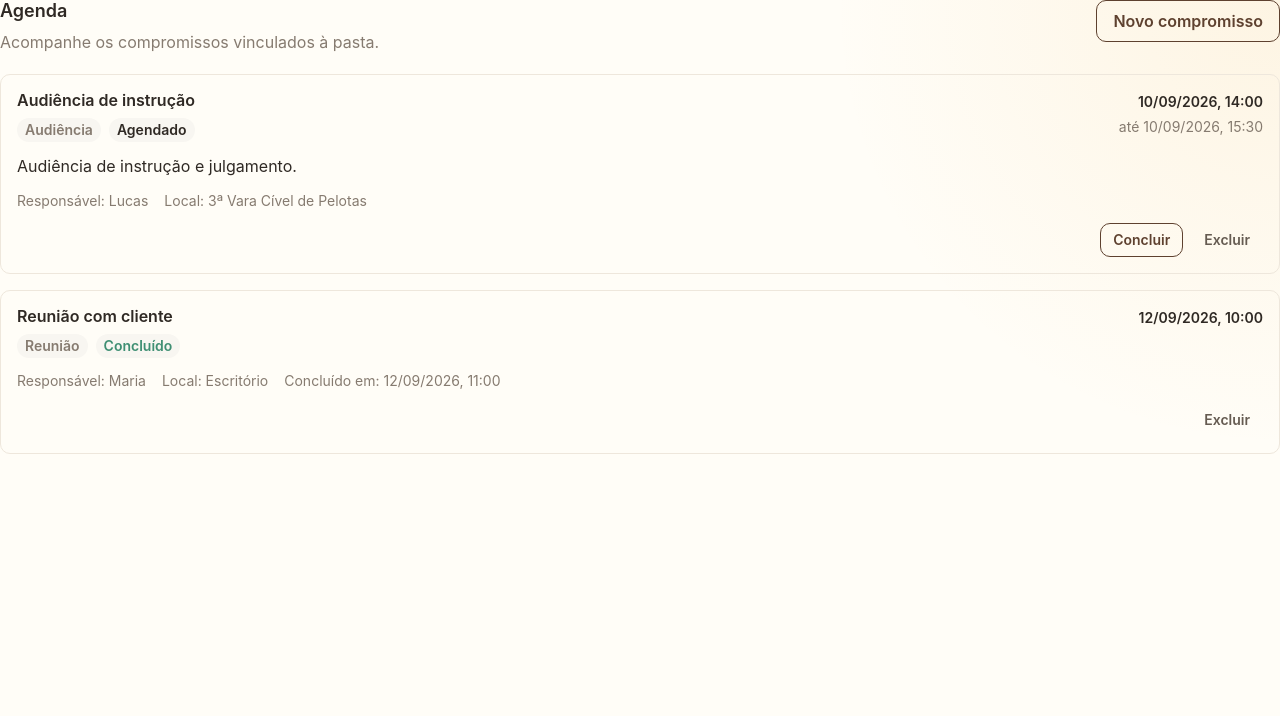
Test: FolderEvents › abre formulário para criar compromisso
Click the button "Novo compromisso": (1188, 21) x1=1096 y1=0 x2=1279 y2=42
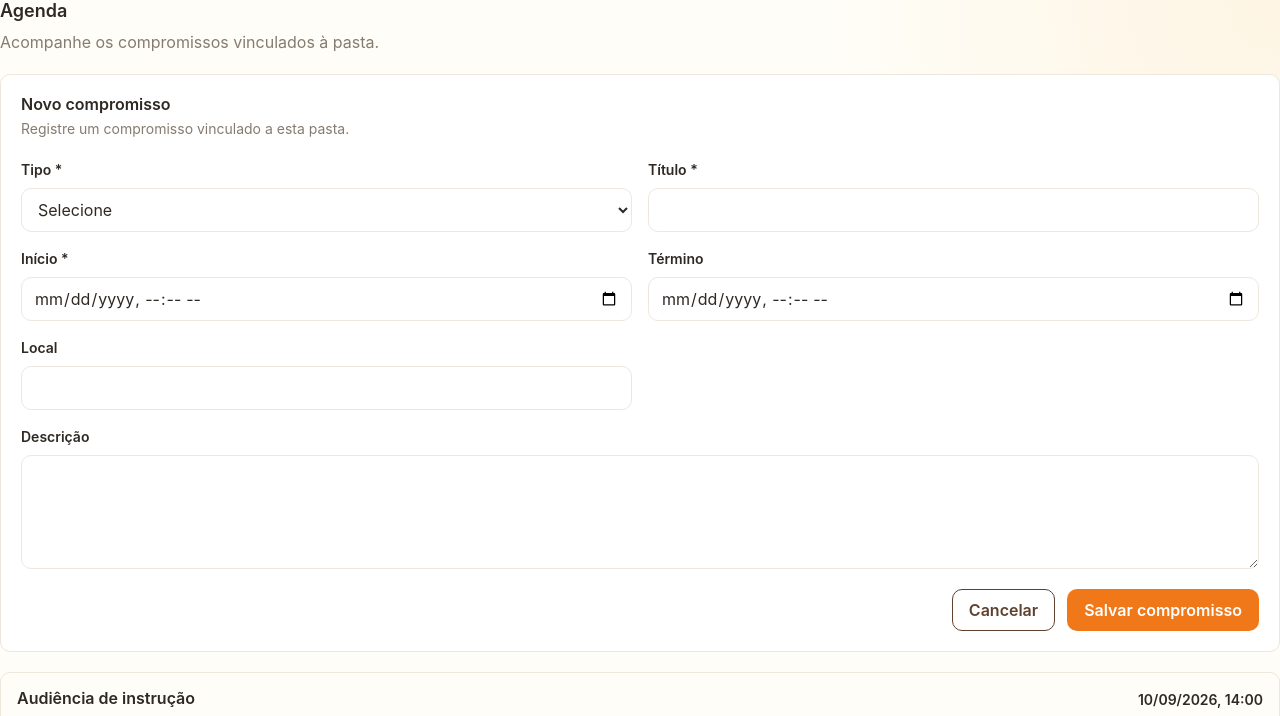
Result: the dropdown named "type" is shown at x1=21 y1=188 x2=632 y2=232
Result: the field named "title" is shown at x1=648 y1=188 x2=1259 y2=232
Result: the field named "starts_at" is shown at x1=21 y1=277 x2=632 y2=321
